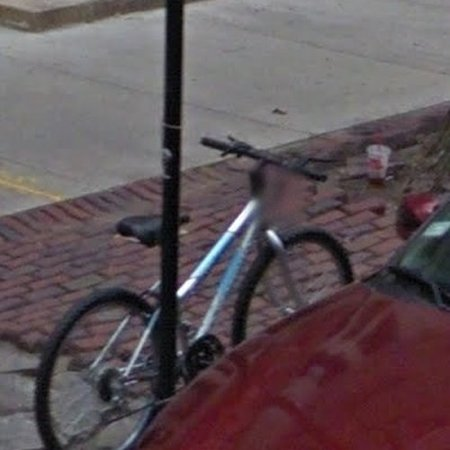紅綠燈: (101, 15, 215, 272)
